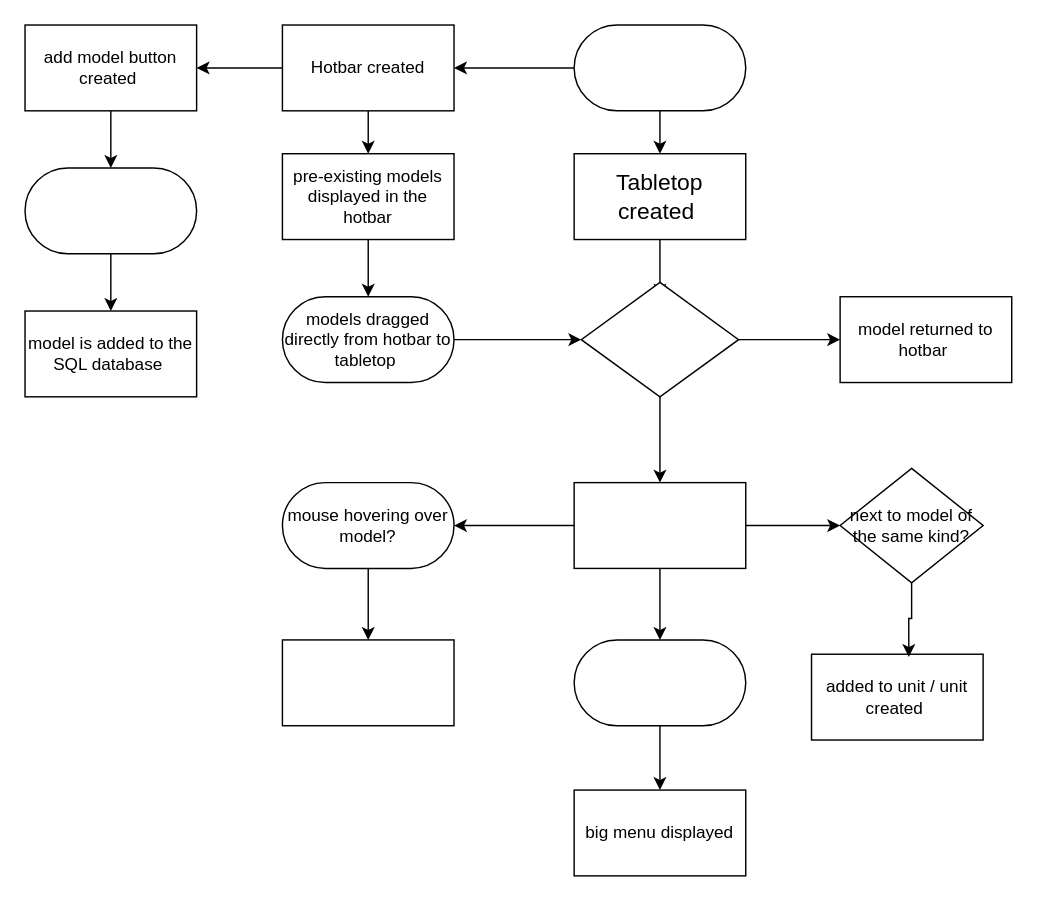
Some shapes in this 1037 by 901 pixel diagram are drawn without their labels. Each missing label, with the centre of its shape:
clicked on?: the point at 659,682
model checked if it can be placed: the point at 659,339
model placed: the point at 659,524
Program Run: the point at 659,67
small menu displayed: the point at 367,682
user inputs the model's data into the popup menu: the point at 110,210
